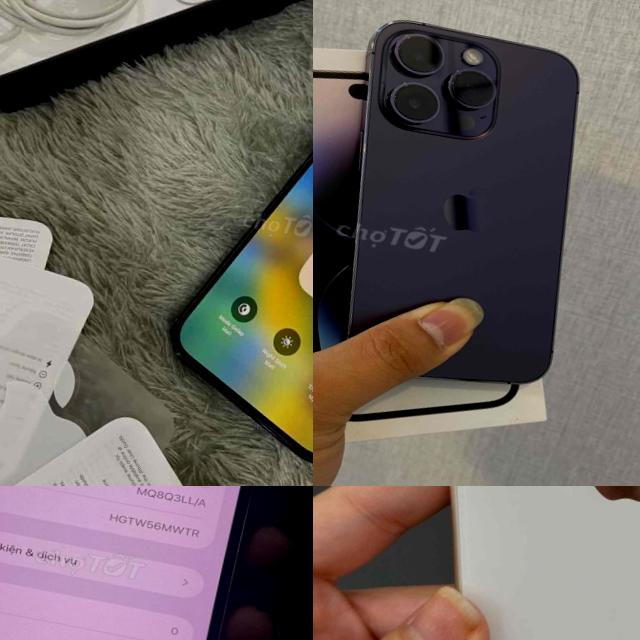gen_12_13: (152, 14, 313, 486)
gen_14: (313, 2, 616, 408), (0, 486, 293, 640)
gen_7_8: (329, 486, 640, 640)
